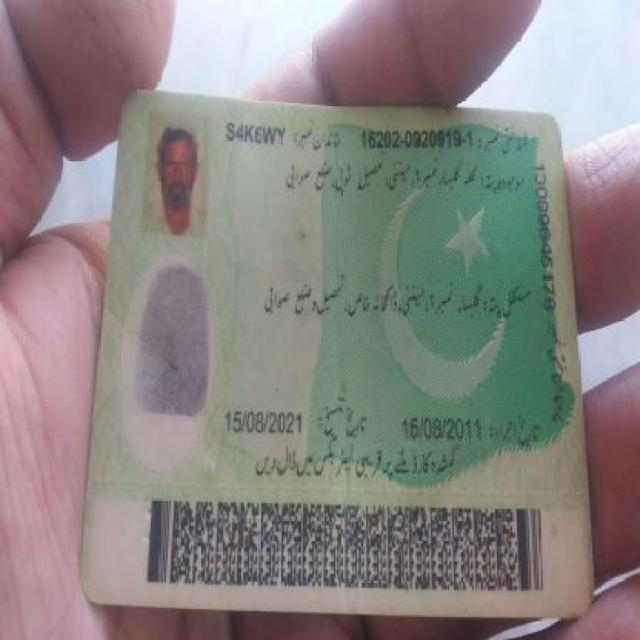Back: (99, 91, 586, 623)
